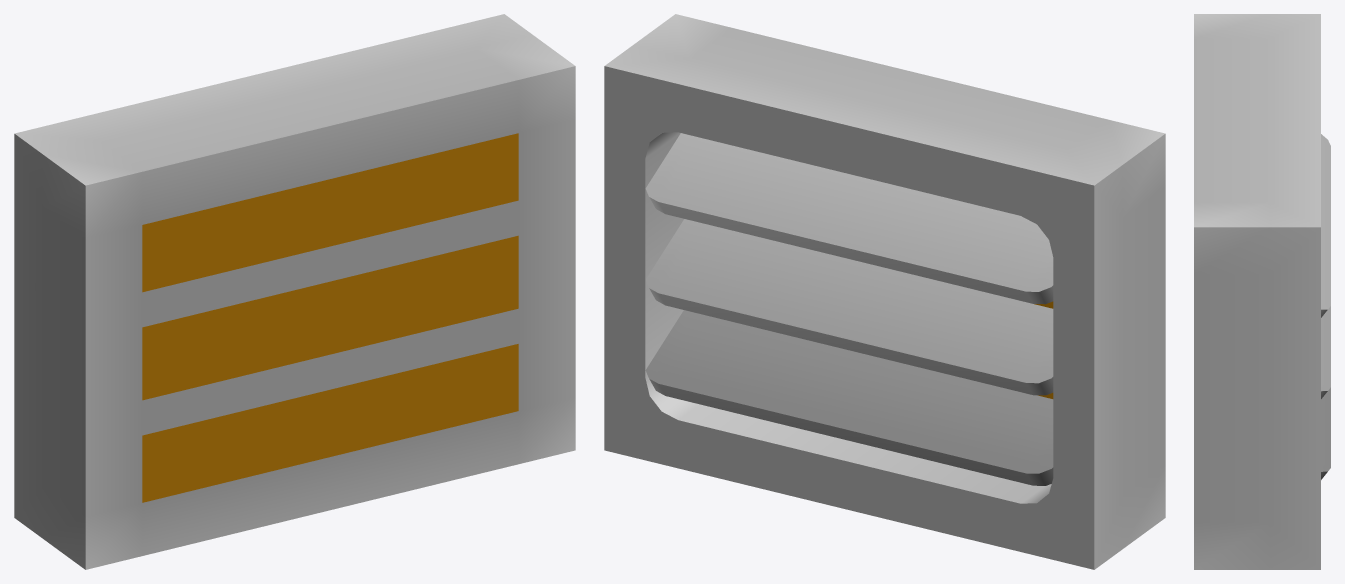
Rendered from obj_dekotora_exhaust.fbx.
3 renders of one model, left to right at view 1: azimuth 30°, elevation 25°; view 2: azimuth 150°, elevation 25°; view 3: azimuth 270°, elevation 25°, orthographic. The views are drawn at different scales.
Parts seen in each view (by area): view 1: Cube.077; view 2: Cube.077, Cube.078; view 3: Cube.077, Cube.078.
Part boxes in pixels (x1,y1,x2,y2): Cube.077: [14, 14, 575, 569]; Cube.077: [604, 14, 1165, 569]; Cube.078: [645, 133, 1053, 485]; Cube.077: [1194, 14, 1320, 569]; Cube.078: [1321, 134, 1330, 479].
Bounding box in the file's own units: 4 × 3 × 1.08.
